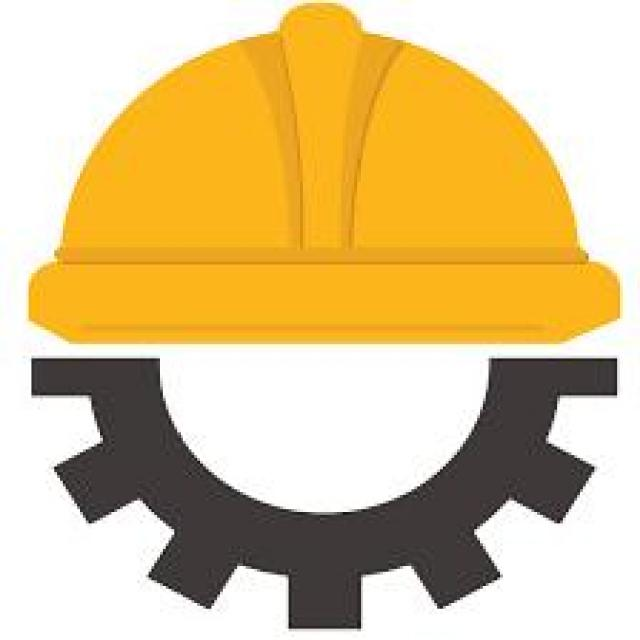Safety-Helmet: (8, 14, 603, 361)
